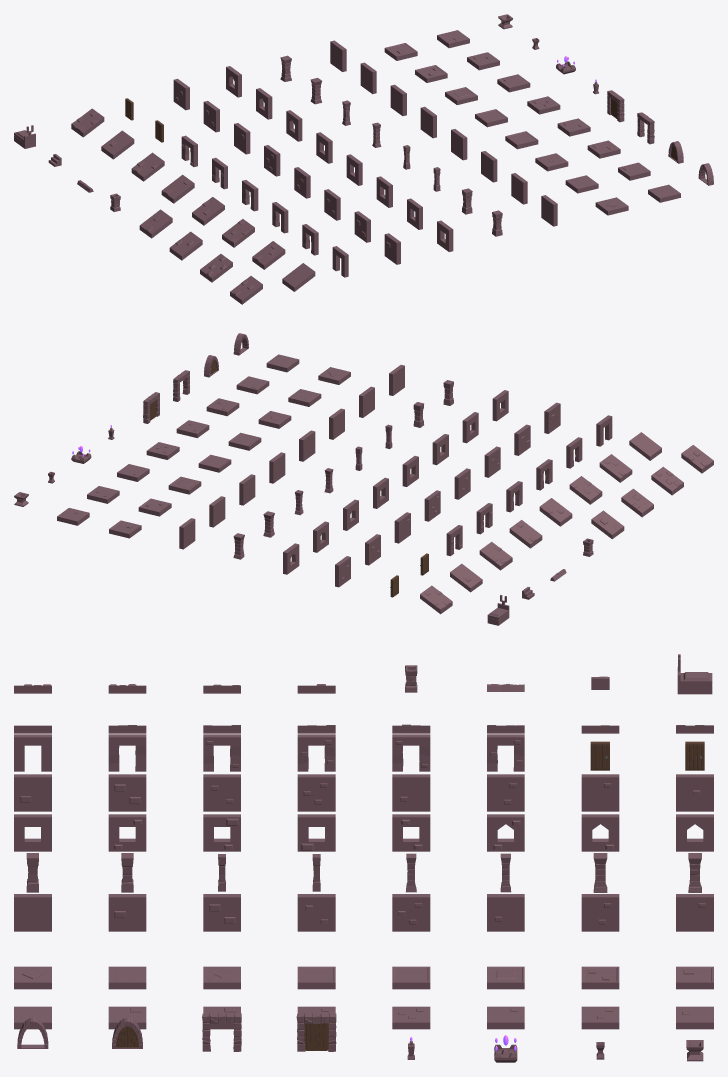
The model's file is DungeonStructures.fbx.
3 views of the same model, one above another, from view 1: azimuth 30°, elevation 25°; view 2: azimuth 150°, elevation 25°; view 3: azimuth 270°, elevation 25° (orthographic). The views are drawn at different scales.
Visible parts, largest first — view 1: Roof_6, Roof_8, Roof_12, Roof_11, Roof_1, Roof_5, Roof_7, Roof_2, Roof_3, Roof_9, Roof_4, Roof_10; view 2: Roof_3, Roof_6, Roof_12, Roof_2, Roof_4, Roof_5, Roof_10, Roof_8, Roof_1, Roof_9, Roof_11, Roof_7; view 3: GateSquareClosed, Wall_5, Wall_4, Wall_2, Wall_7, Wall_Doublesided_4, Wall_Doublesided_5, Wall_Doublesided_2, Wall_Doublesided_7, Wall_1, Wall_6, Wall_3 (+36 smaller).
Boxes of the visible parts, box(x1,y1,x2,y2) form: Roof_6: box(131, 152, 164, 181); Roof_8: box(71, 108, 104, 137); Roof_12: box(139, 209, 172, 238); Roof_11: box(169, 231, 202, 260); Roof_1: box(282, 263, 315, 291); Roof_5: box(161, 174, 194, 203); Roof_7: box(101, 130, 134, 159); Roof_2: box(252, 241, 285, 269); Roof_3: box(222, 219, 254, 247); Roof_9: box(230, 276, 262, 304); Roof_4: box(192, 197, 224, 225); Roof_10: box(200, 254, 232, 282); Roof_3: box(569, 476, 602, 504); Roof_6: box(479, 541, 512, 570); Roof_12: box(591, 510, 624, 539); Roof_2: box(599, 454, 632, 482); Roof_4: box(539, 498, 572, 526); Roof_5: box(509, 520, 542, 548); Roof_10: box(651, 466, 683, 495); Roof_8: box(420, 585, 452, 614); Roof_1: box(629, 432, 661, 460); Roof_9: box(681, 445, 713, 473); Roof_11: box(621, 488, 653, 517); Roof_7: box(450, 563, 482, 592); GateSquareClosed: box(296, 1013, 336, 1051); Wall_5: box(392, 894, 430, 931); Wall_4: box(297, 894, 335, 931); Wall_2: box(108, 894, 146, 931); Wall_7: box(581, 894, 619, 931); Wall_Doublesided_4: box(297, 774, 335, 811); Wall_Doublesided_5: box(392, 774, 430, 811); Wall_Doublesided_2: box(108, 774, 146, 811); Wall_Doublesided_7: box(581, 774, 619, 811); Wall_1: box(14, 894, 51, 931); Wall_6: box(487, 894, 524, 931); Wall_3: box(203, 894, 240, 931).
Bounding box in the file's own units: 4714 × 3700 × 226.
